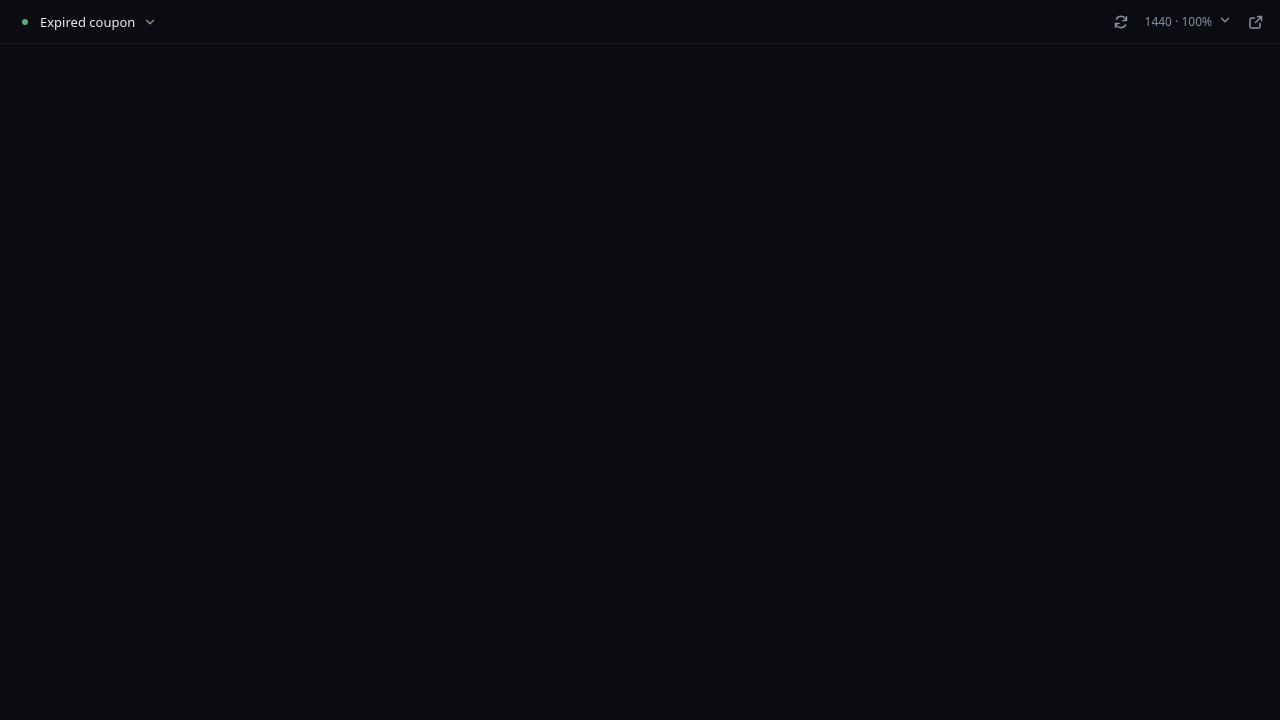
Test: the running drive’s Scenario menu › names the current scenario and lists This feature, the others, Blank app and New scenario
This screenshot has width=1280, height=720.
Click the button "Expired coupon" at (88, 22), box [8,6,167,38]
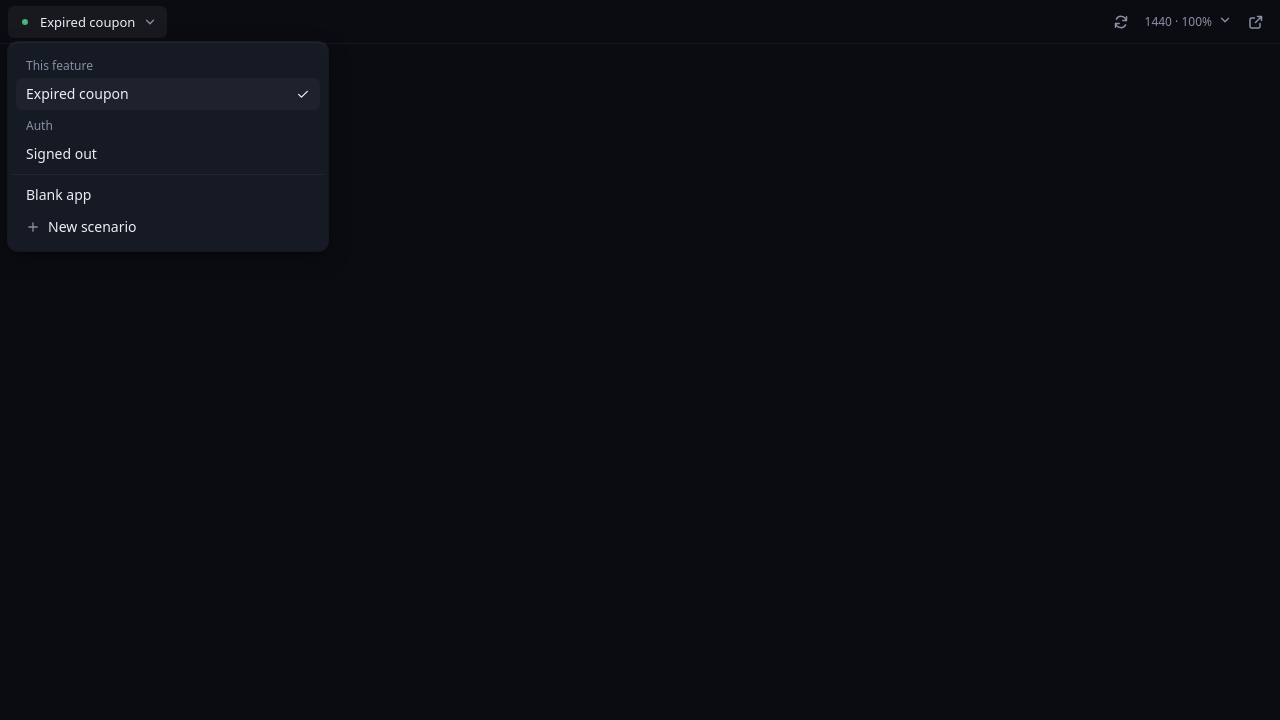
Check: the list shows "This feature", box [26,57,93,74]
Check: the list shows "Auth", box [26,117,53,134]
